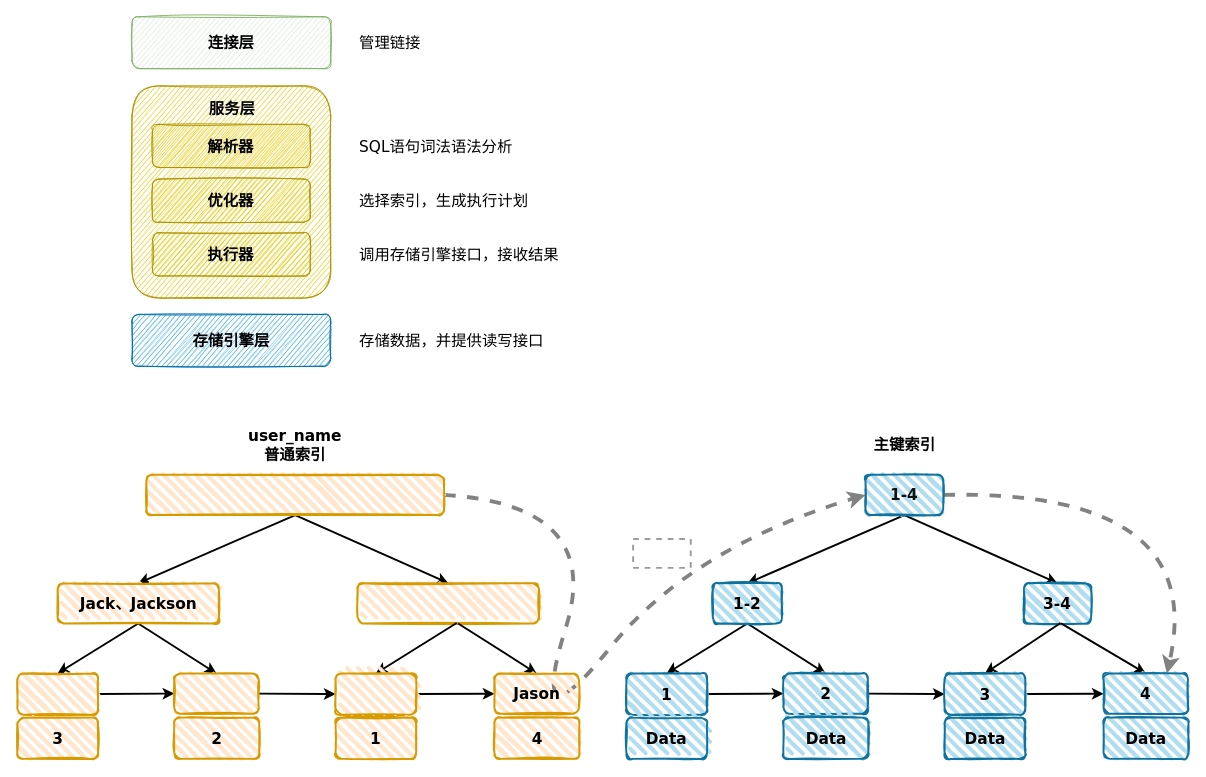
The diagram is 1206 pixels wide and 777 high, and some of its shapes have lost their labels. The shapes that lost their labels are listed below. From the top down, each one's centre as x and y in pixels, then its label:
(294,494): Jack、Jackson、Jameson、Jason
(661,553): 回表
(448,603): Jameson、Jason
(57,693): Jack
(216,693): Jackson
(375,693): Jameson
